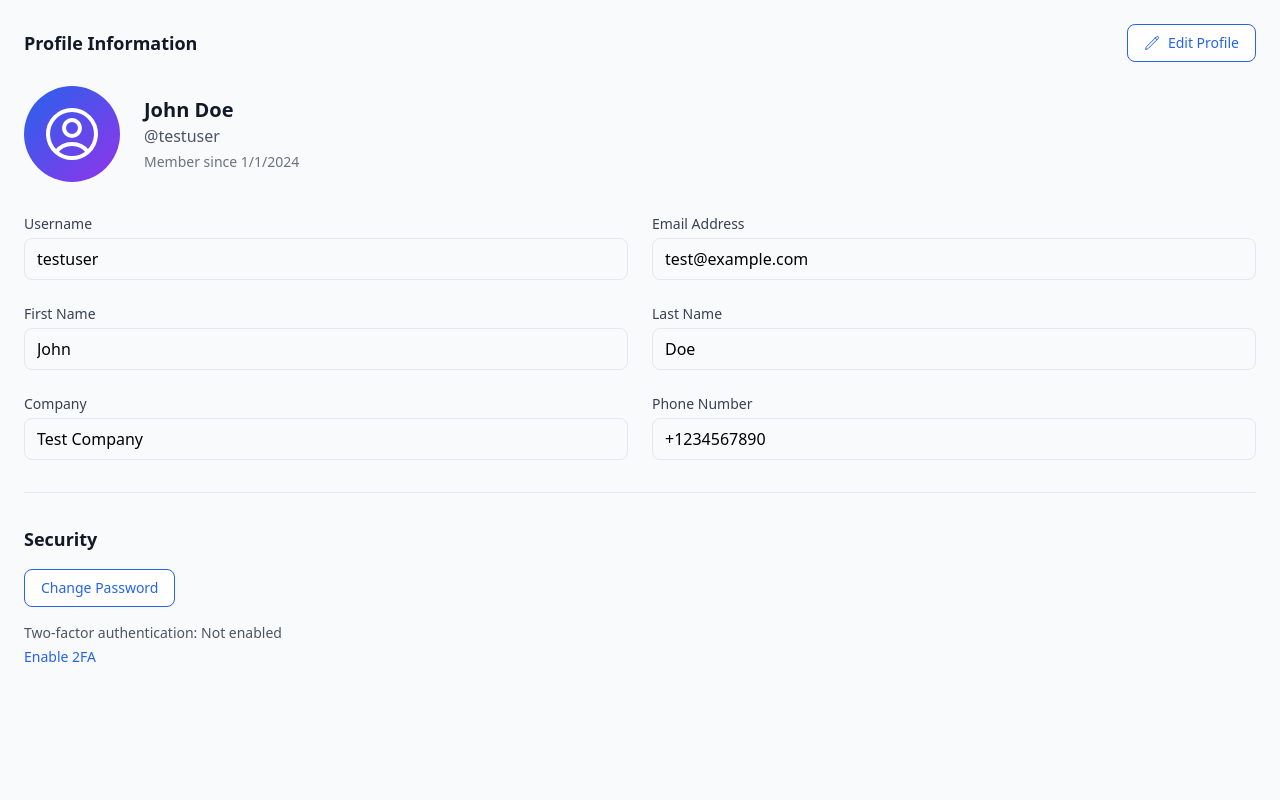
ProfileSection Component › Edit Mode › should enter edit mode when Edit Profile is clicked
Click the button "Edit Profile": (1191, 43) [1127,24,1256,62]
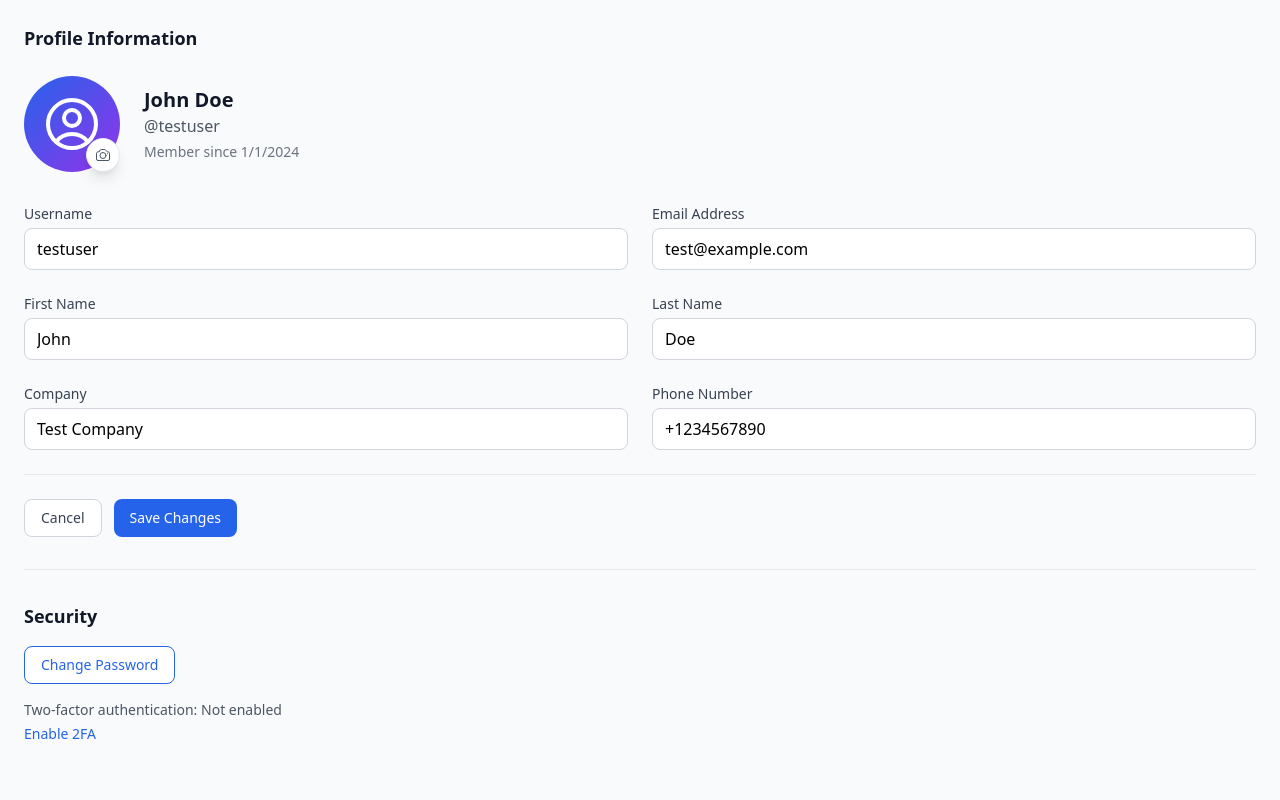
expect the button "Save Changes" is shown: met, box [114,499,237,537]
expect the button "Cancel" is shown: met, box [24,499,102,537]
expect the button "Edit Profile" is gone: met
